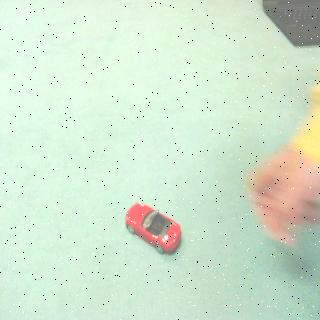car: (121, 199, 185, 265)
